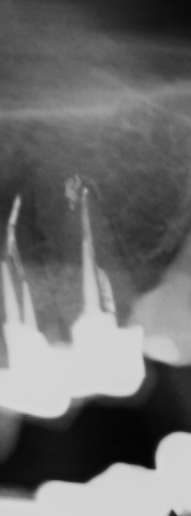fracture: (8, 189, 24, 225)
